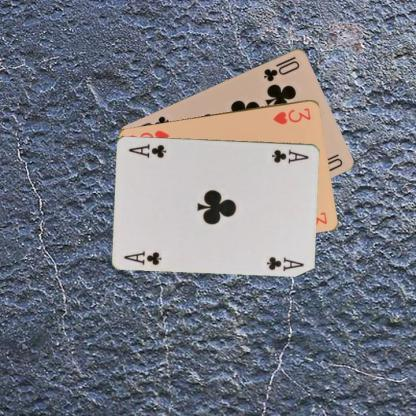10c: (261, 58, 301, 82)
3h: (270, 106, 312, 126)
Ac: (121, 248, 163, 266), (270, 146, 310, 164)
